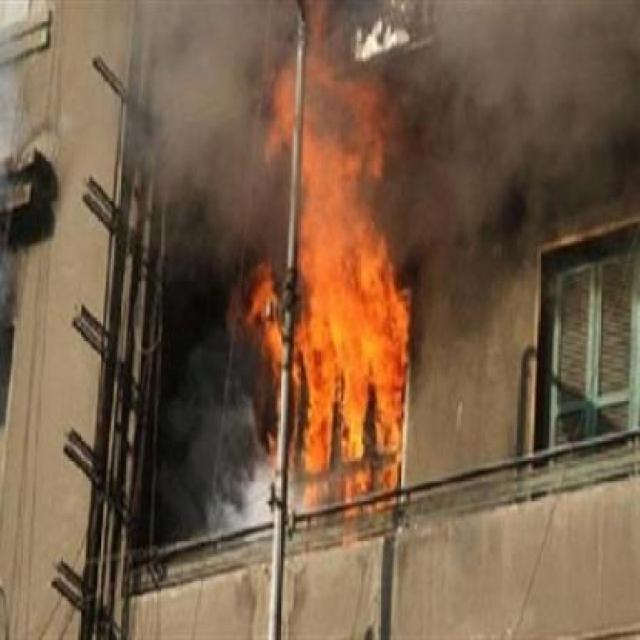Fire: (247, 70, 410, 499)
Smoke: (412, 0, 638, 228), (157, 64, 280, 278), (411, 226, 546, 320), (160, 0, 296, 63)
